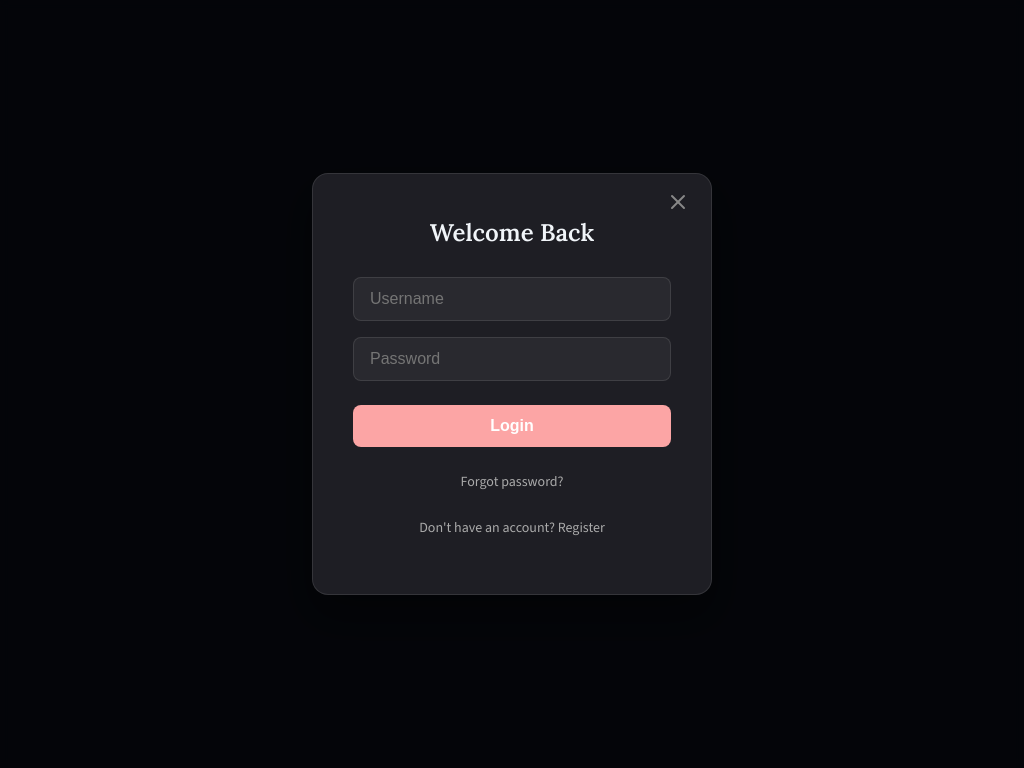
Scenario: AuthModal integration › switches to register view
The width and height of the screenshot is (1024, 768).
Step 1. Click the text "Don't have an account? Register" → (512, 528), box 419,518 -> 605,537
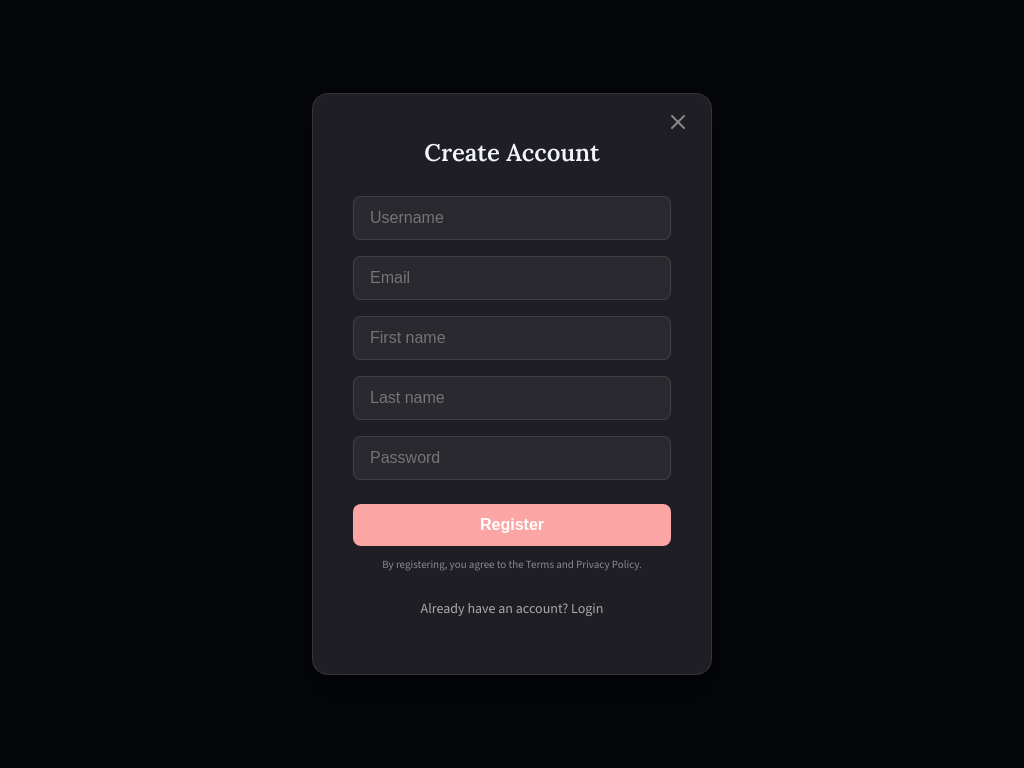
Result: the heading "Create Account" is shown at 424,137 -> 600,168
Result: the field with placeholder "Email" is shown at 353,256 -> 671,300
Result: the button "Register" is shown at 353,504 -> 671,546
